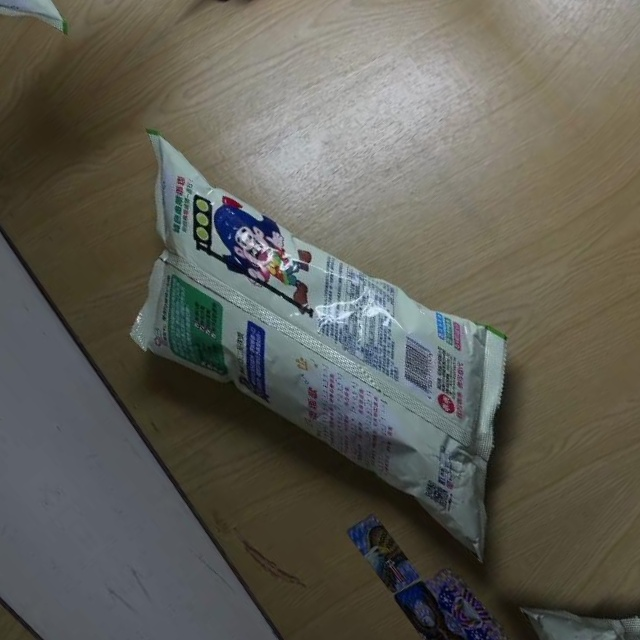Good-Luck: (36, 39, 613, 640)
